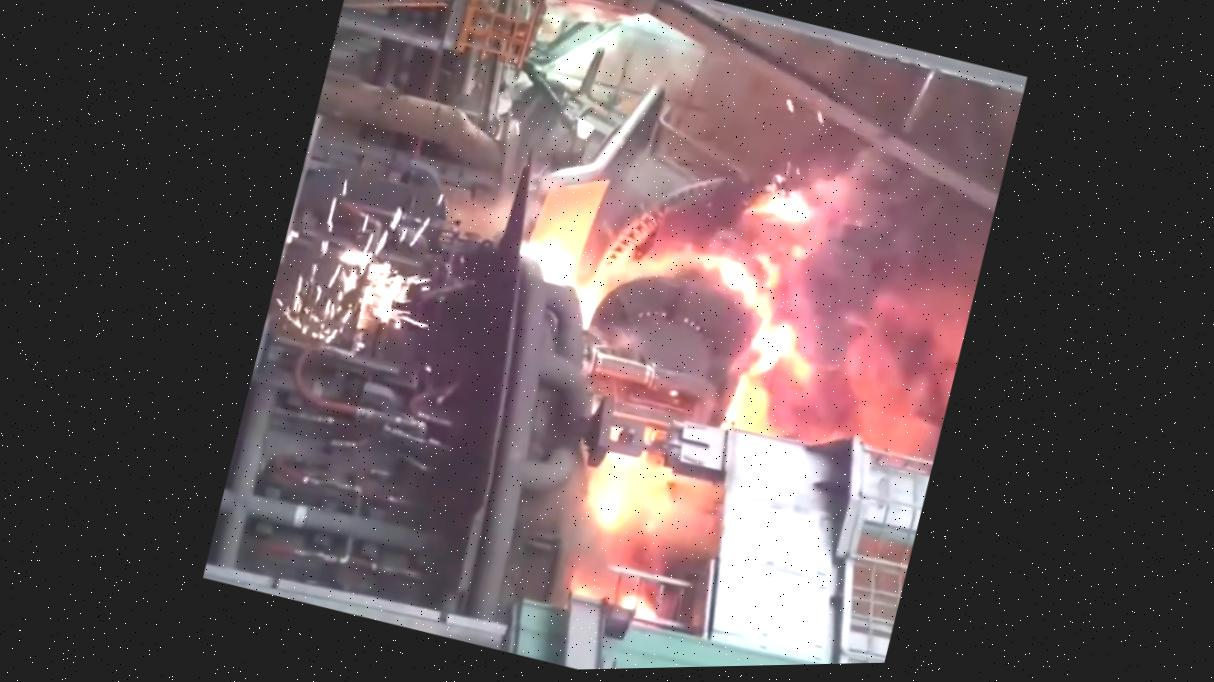fire: (285, 27, 998, 639)
